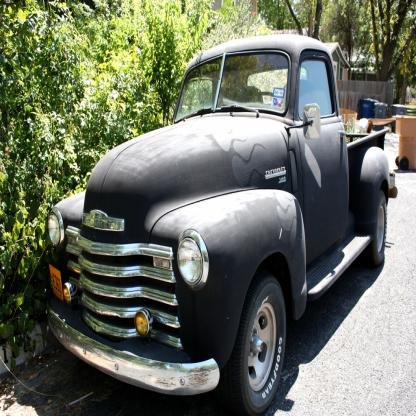Truck: (46, 34, 399, 415)
